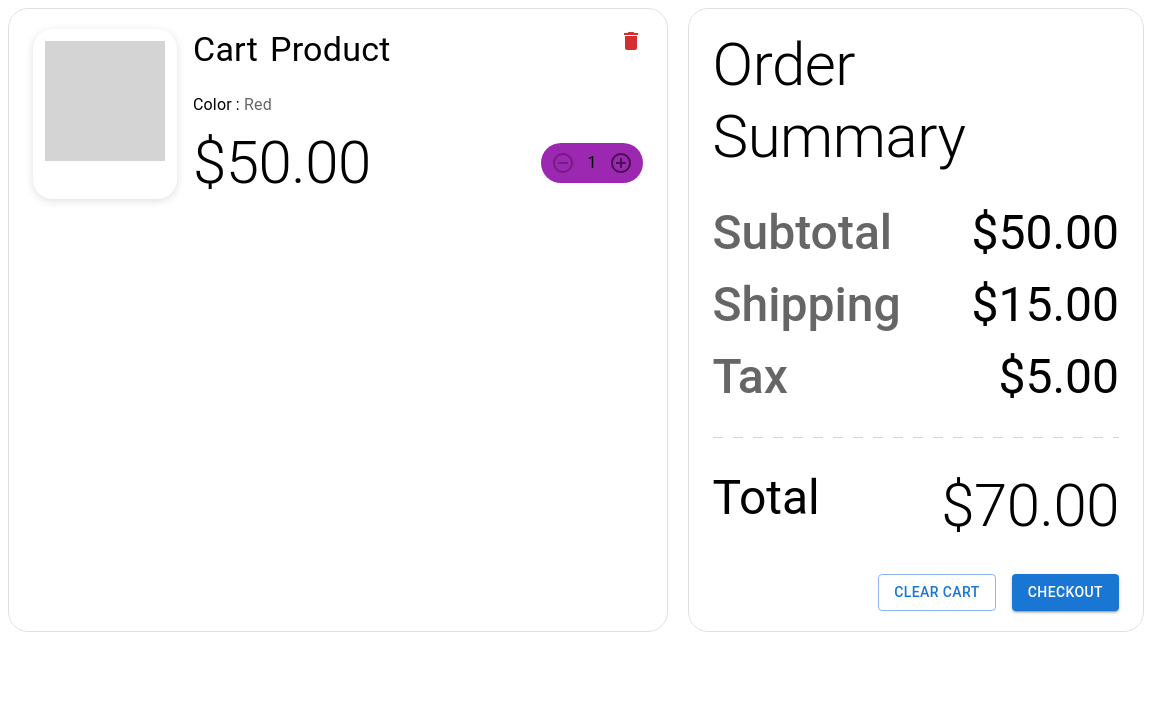
Cart Component › renders cart items and updates quantity
Expected: the heading "Cart Product" is shown, [193,29,391,71]
Expected: the heading "Order Summary" is shown, [713,29,966,172]
Click the button with test id "AddCircleOutlineIcon".
click(621, 163)  # box [609,151,633,175]
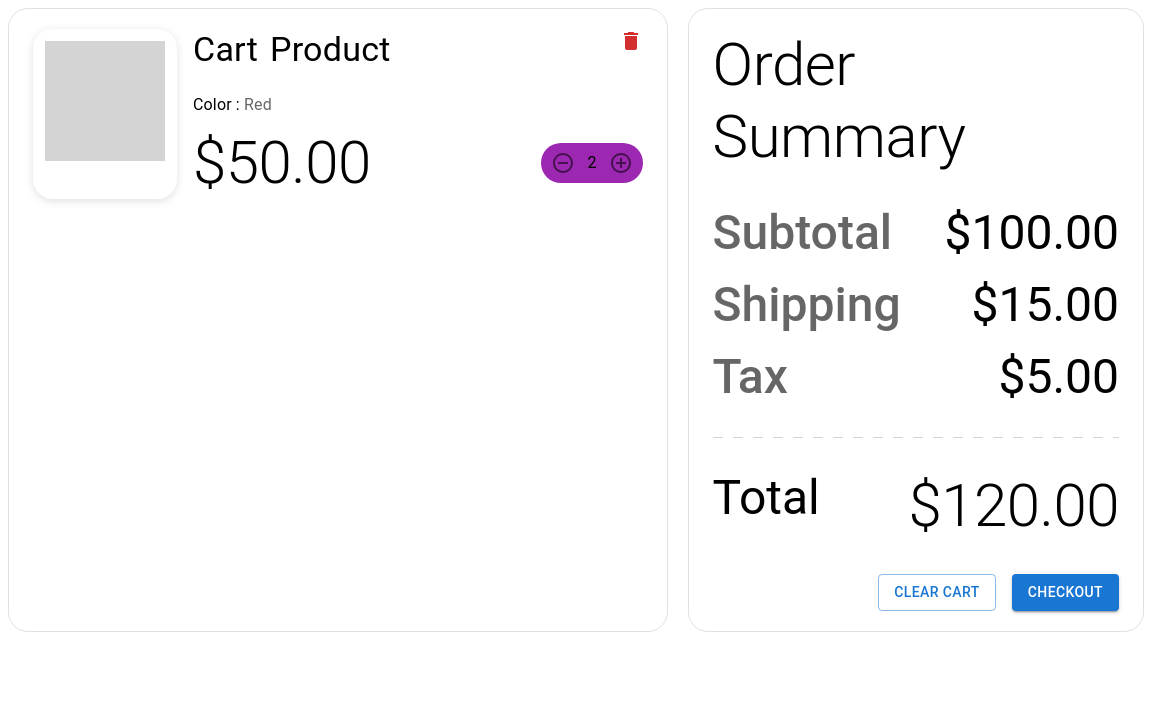
Result: the heading "$100.00" is shown at [944,205,1119,261]
